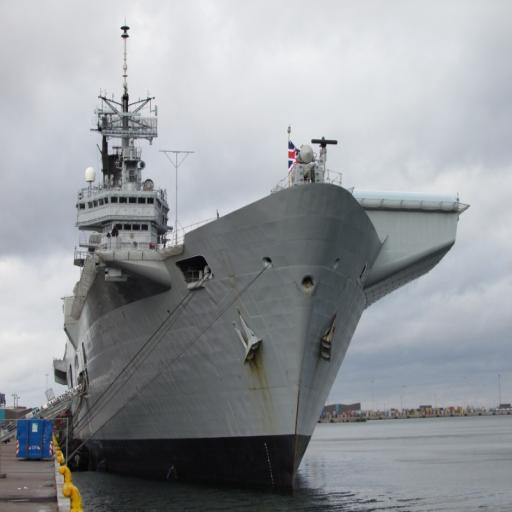Portanaves: (47, 9, 472, 499)
